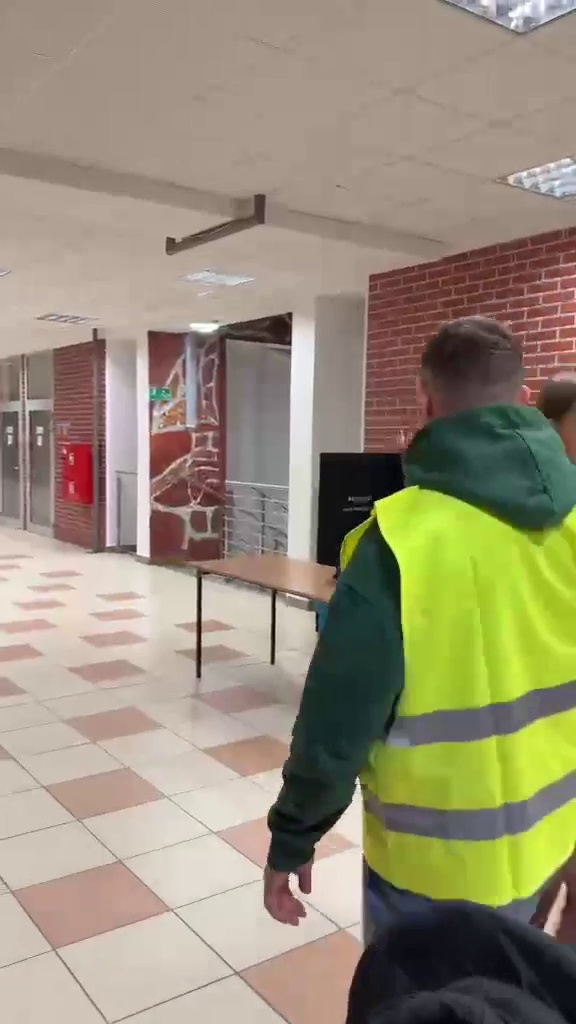vest: (261, 310, 576, 956)
